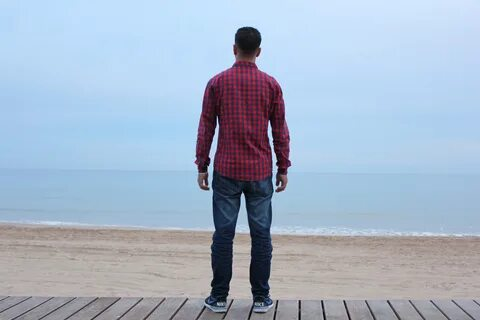awake: (193, 26, 291, 314)
